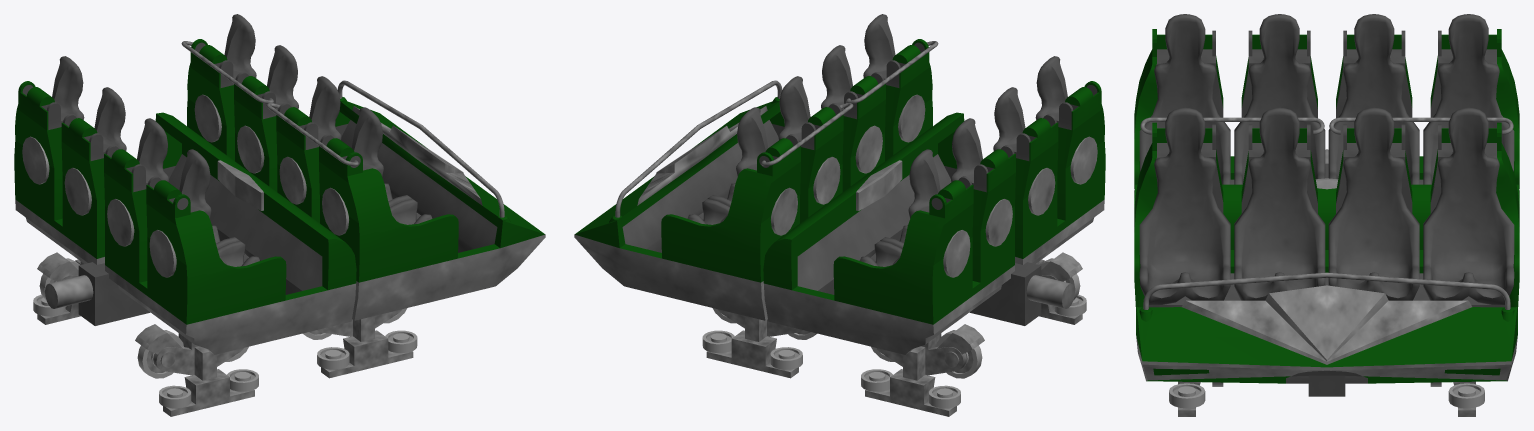
Rendered from car.obj.
The picture shows the model from 3 angles, left to right: view 1: azimuth 30°, elevation 25°; view 2: azimuth 150°, elevation 25°; view 3: azimuth 270°, elevation 25°; orthographic projection. The views are drawn at different scales.
Visible parts, largest first — view 1: Cube, Cylinder.001; view 2: Cube, Cylinder.001; view 3: Cube, Cylinder.001.
Part boxes in pixels (box(x1,y1,x2,y2)): Cube: box(14, 14, 545, 354); Cylinder.001: box(33, 252, 417, 416); Cube: box(574, 14, 1105, 354); Cylinder.001: box(702, 252, 1086, 416); Cube: box(1134, 14, 1519, 396); Cylinder.001: box(1169, 381, 1484, 416).
Bounding box in the file's own units: 2.94 × 1.73 × 2.12.
